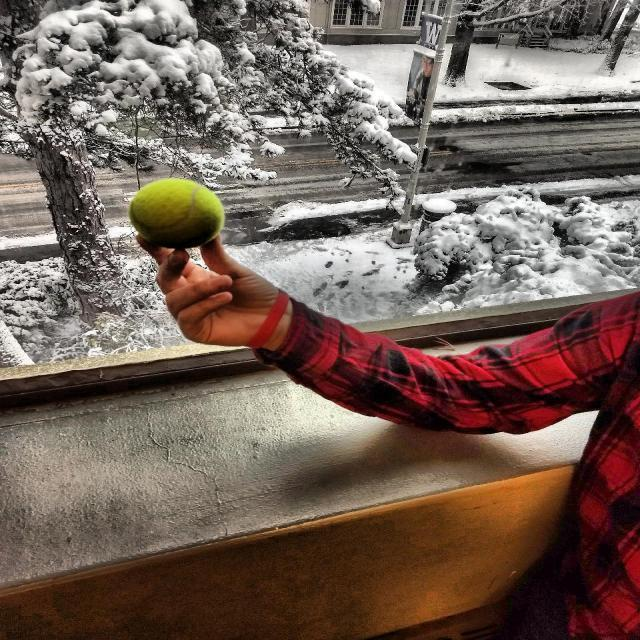tennis-ball: (126, 178, 226, 254)
